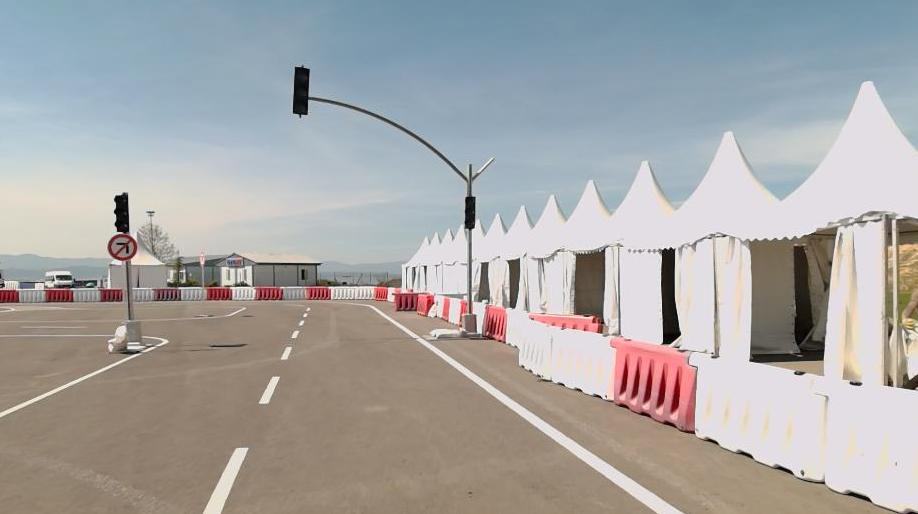nesne: (0, 297, 683, 512), (200, 303, 680, 512), (367, 304, 683, 513), (1, 302, 313, 512), (688, 352, 917, 511), (308, 96, 467, 181), (1, 340, 165, 417), (609, 336, 696, 431), (521, 319, 616, 400), (200, 447, 248, 511), (0, 320, 124, 334), (141, 318, 223, 339), (505, 307, 527, 353), (481, 304, 506, 340), (291, 67, 310, 114), (106, 233, 135, 261), (395, 293, 429, 314), (330, 286, 373, 300), (467, 230, 474, 311), (257, 375, 277, 403), (114, 192, 128, 230), (123, 286, 153, 303), (107, 325, 126, 351), (471, 299, 485, 332), (471, 159, 493, 179), (459, 313, 478, 336), (152, 287, 180, 302), (124, 263, 131, 318), (45, 288, 72, 302), (463, 196, 475, 227), (281, 286, 307, 300), (178, 287, 206, 300), (19, 289, 45, 303), (230, 286, 255, 300), (206, 286, 231, 300), (100, 287, 125, 301), (0, 318, 175, 320), (450, 297, 463, 322), (256, 286, 281, 299), (306, 285, 330, 298), (73, 288, 99, 300), (0, 289, 20, 302), (433, 296, 446, 314), (0, 334, 111, 336), (374, 286, 389, 299), (225, 306, 246, 315), (280, 344, 293, 358), (139, 334, 166, 339), (467, 162, 471, 195), (387, 287, 395, 301), (291, 329, 298, 337)
